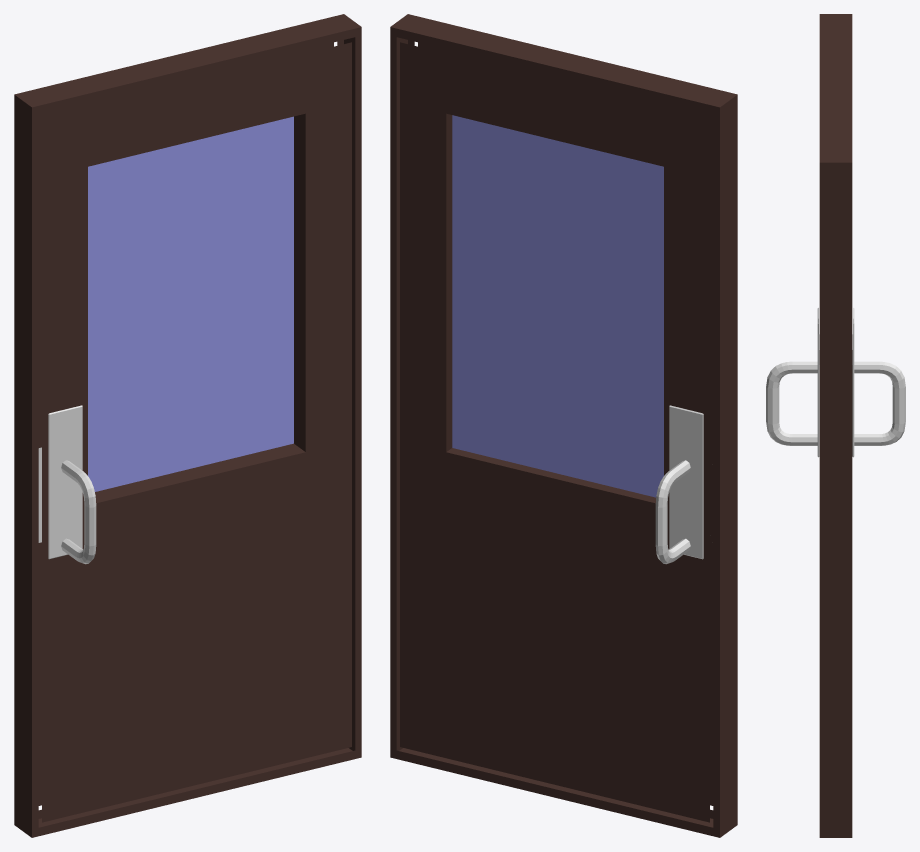
Rendered from Elementary_Door_1.fbx.
The picture shows the model from 3 angles, left to right: view 1: azimuth 30°, elevation 25°; view 2: azimuth 150°, elevation 25°; view 3: azimuth 270°, elevation 25°; orthographic projection. The views are drawn at different scales.
Parts seen in each view (by area): view 1: Door.002, DoorWindowPane.002, DoorFrame.002, DeadDoorHandle.002; view 2: Door.002, DoorWindowPane.002, DoorFrame.002, DeadDoorHandle.002; view 3: DoorFrame.002, DeadDoorHandle.002.
Part boxes in pixels (x1,y1,x2,y2): Door.002: (38,42,351,822); DoorWindowPane.002: (88,116,293,491); DoorFrame.002: (14,14,361,837); DeadDoorHandle.002: (38,405,96,564); Door.002: (400,42,713,822); DoorWindowPane.002: (452,115,663,497); DoorFrame.002: (390,14,737,837); DeadDoorHandle.002: (655,405,703,564); DoorFrame.002: (819,14,852,837); DeadDoorHandle.002: (766,308,905,457).
Size of the model in its own units: 80.42 by 170 by 31.91.
